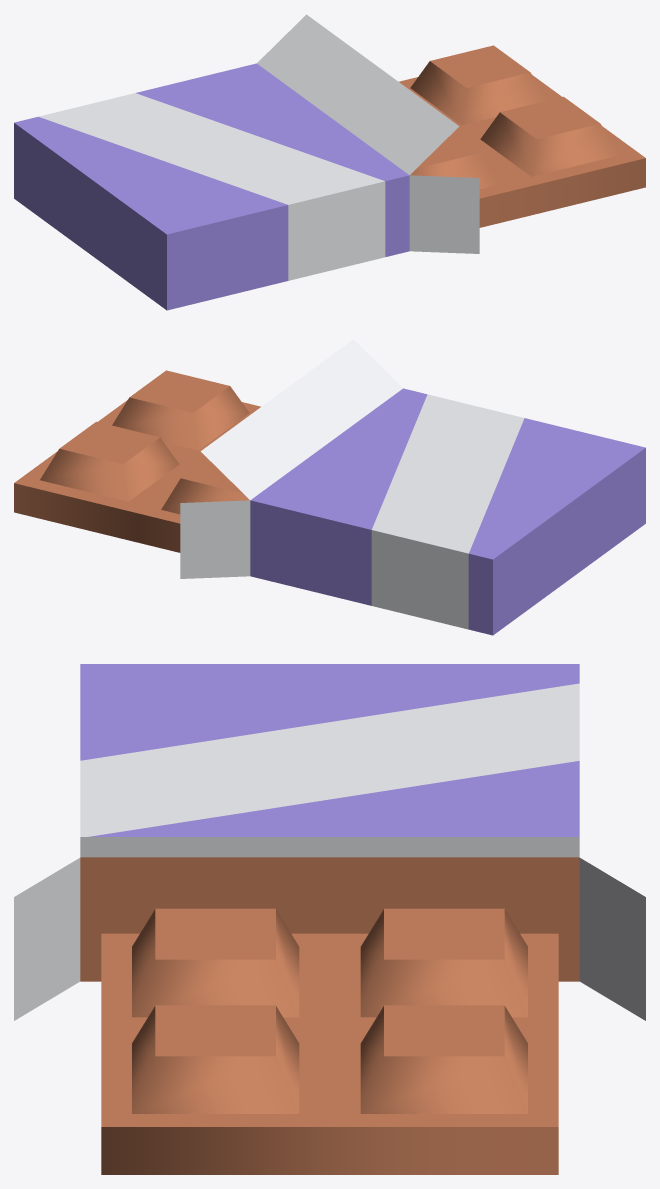
File: Chocolate Wrapper.glb
The picture shows the model from 3 angles, top to bottom: view 1: azimuth 30°, elevation 25°; view 2: azimuth 150°, elevation 25°; view 3: azimuth 270°, elevation 25°; orthographic projection. The views are drawn at different scales.
Visible parts, largest first — view 1: Chocolate Wrapper; view 2: Chocolate Wrapper; view 3: Chocolate Wrapper.
Boxes of the visible parts, <box> form: Chocolate Wrapper: <box>14,14,645,310</box>; Chocolate Wrapper: <box>14,339,645,635</box>; Chocolate Wrapper: <box>14,664,645,1174</box>.
Bounding box in the file's own units: 0.2924 × 0.0649 × 0.202.
